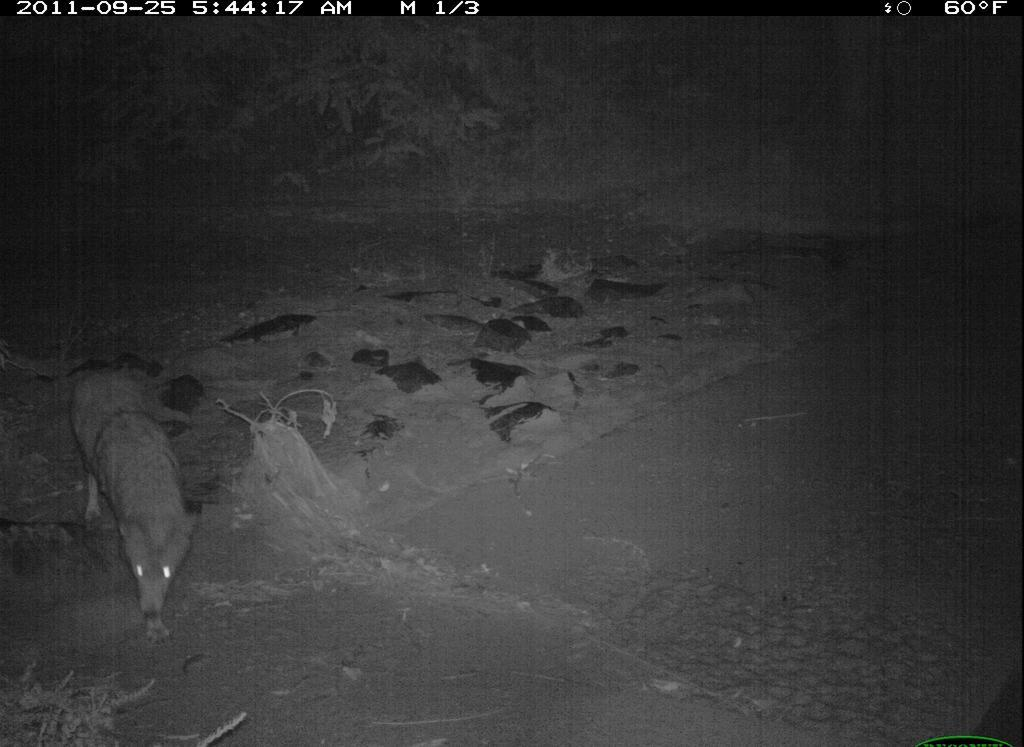coyote: (55, 353, 207, 654)
